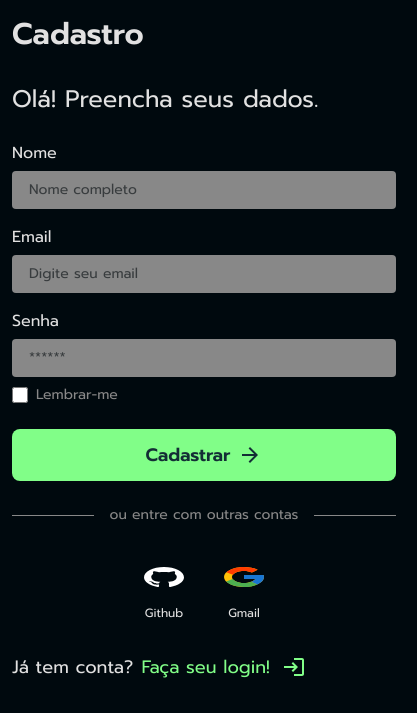
RegisterForm › should show errors on submit with empty fields
The width and height of the screenshot is (417, 713).
Step 1. Click the button "Cadastrar" → [204, 455], box [12,429,396,481]
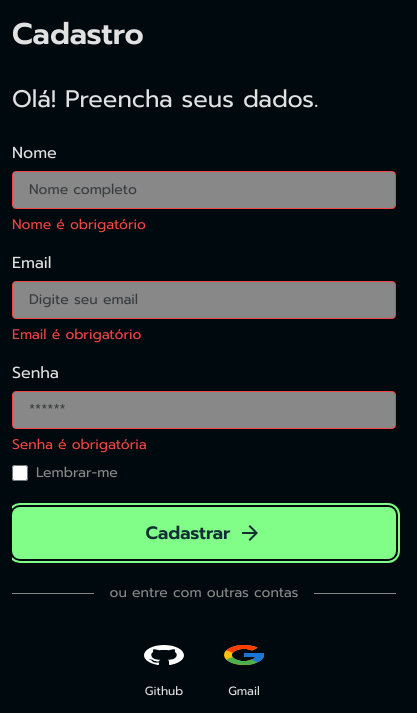
Expected: the text "Nome é obrigatório" is shown, [12,214,146,235]
Expected: the text "Email é obrigatório" is shown, [12,324,141,345]
Expected: the text "Senha é obrigatória" is shown, [12,434,147,455]
